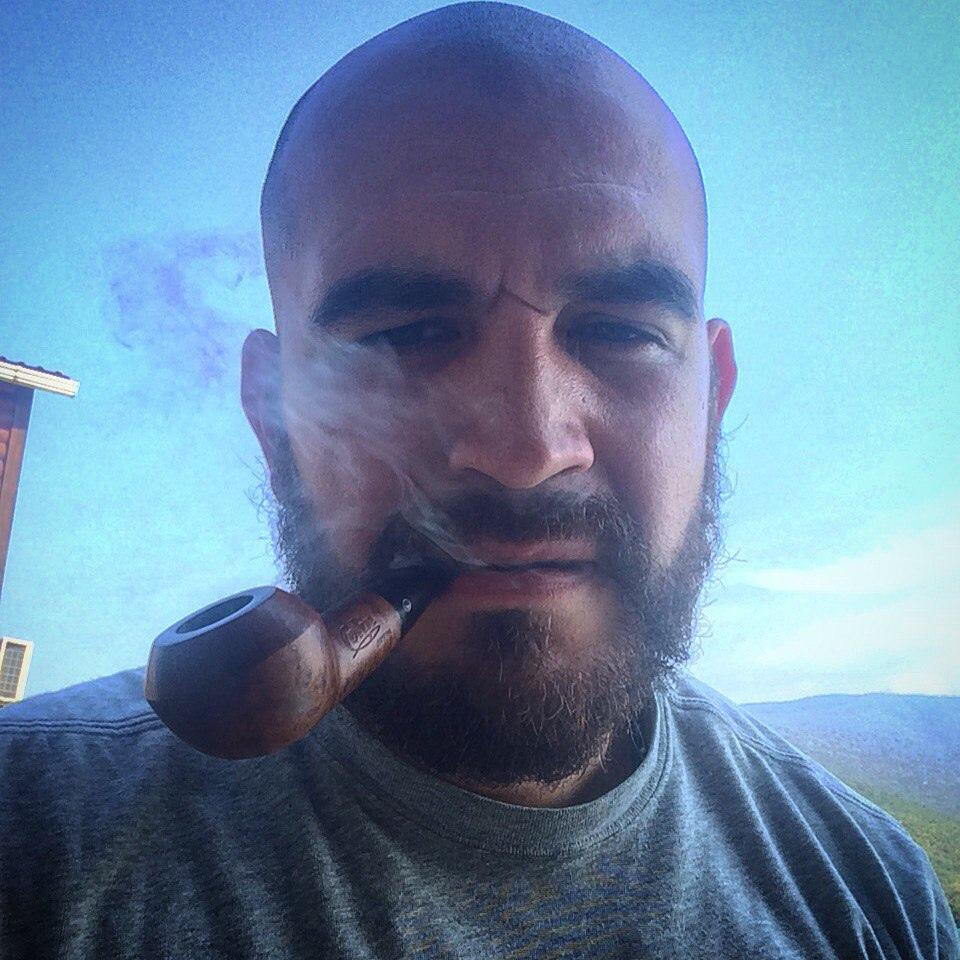trubka: (144, 547, 465, 760)
